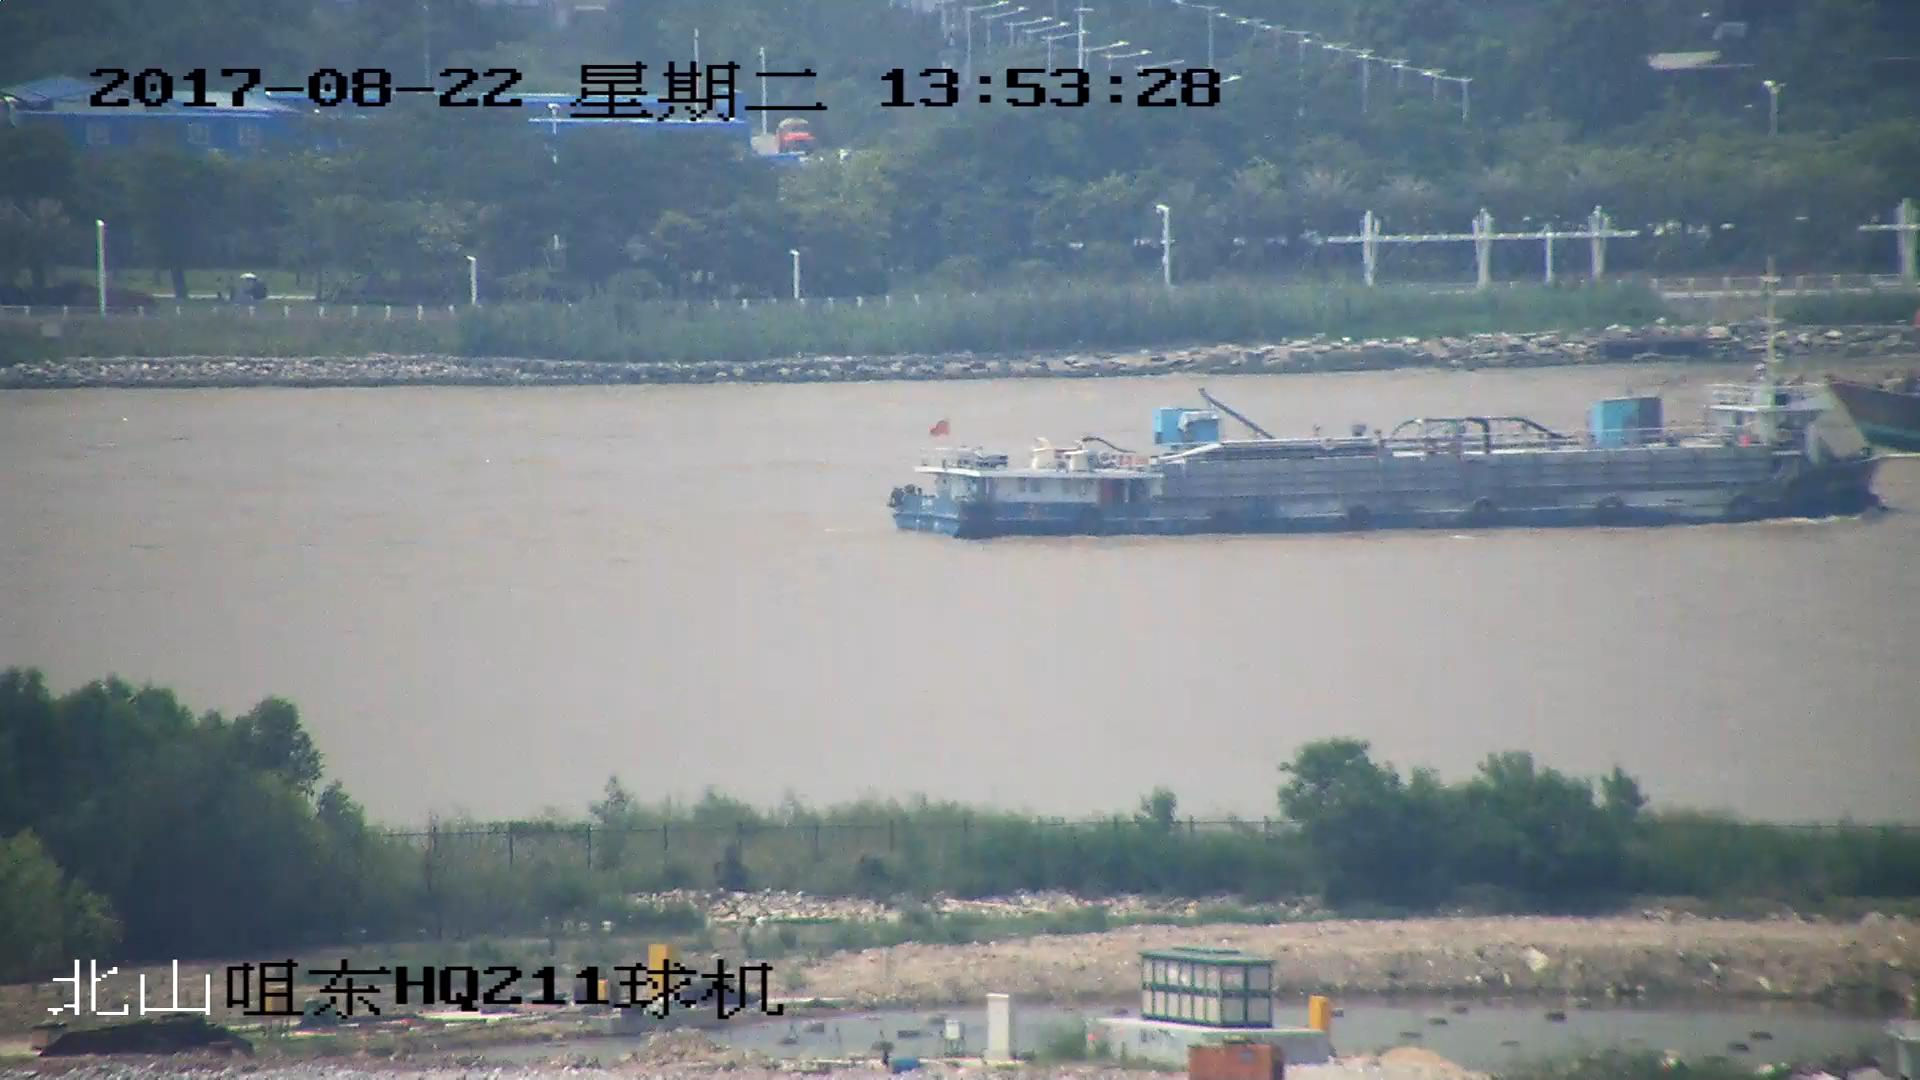fishing boat: (1833, 365, 1920, 445)
general cargo ship: (889, 356, 1887, 539)
